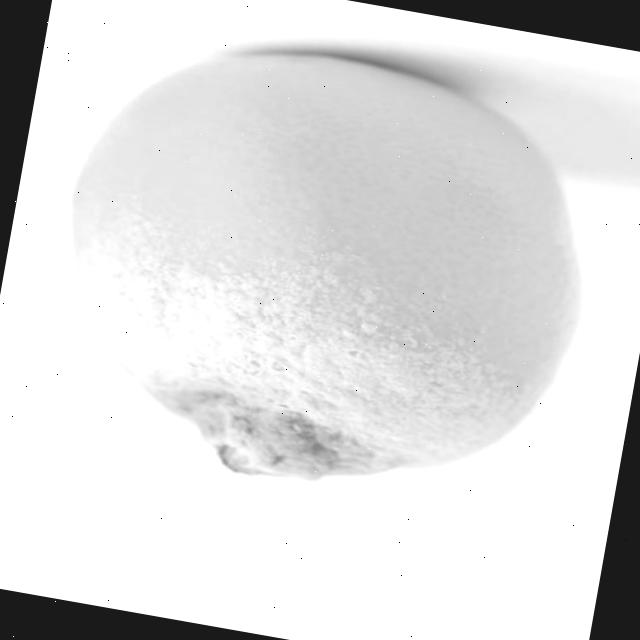Rotten: (26, 12, 613, 530)
